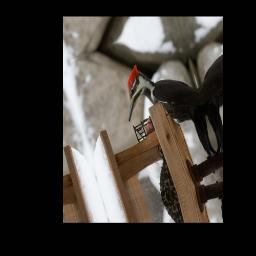Woodpecker: (113, 37, 219, 190)
